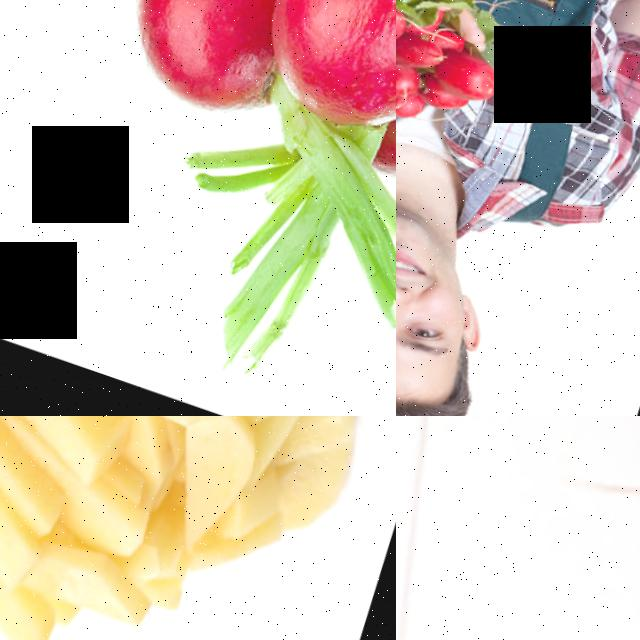potato: (142, 416, 274, 571), (19, 524, 164, 640), (0, 422, 71, 596)
radishes: (82, 0, 396, 237), (396, 0, 534, 156)
